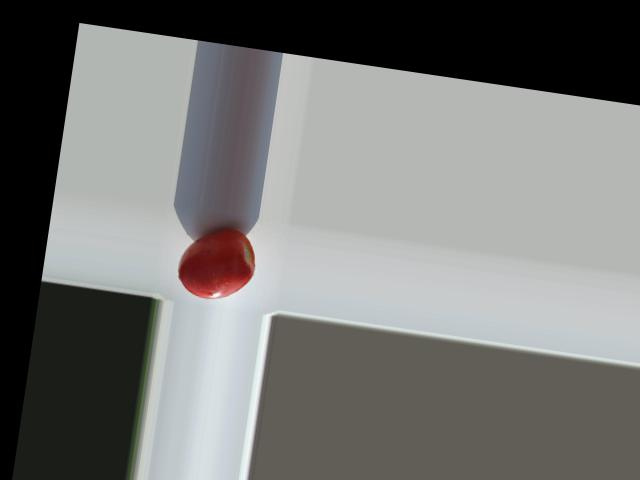tomato: (174, 222, 259, 304)
